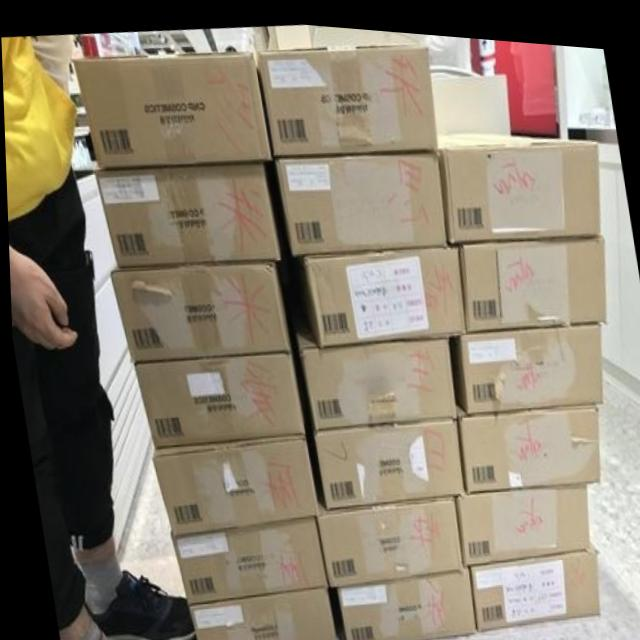box: (433, 66, 599, 236), (252, 20, 438, 152), (70, 47, 271, 165), (93, 157, 276, 267), (270, 147, 444, 254), (109, 256, 285, 361), (148, 428, 314, 534), (303, 236, 464, 343), (131, 347, 300, 441), (298, 330, 453, 425), (446, 314, 601, 407), (460, 224, 604, 324), (169, 514, 325, 602), (313, 487, 459, 581), (310, 411, 459, 502), (452, 393, 596, 484), (323, 556, 472, 640), (464, 525, 595, 620), (451, 477, 584, 558), (185, 583, 331, 640)
